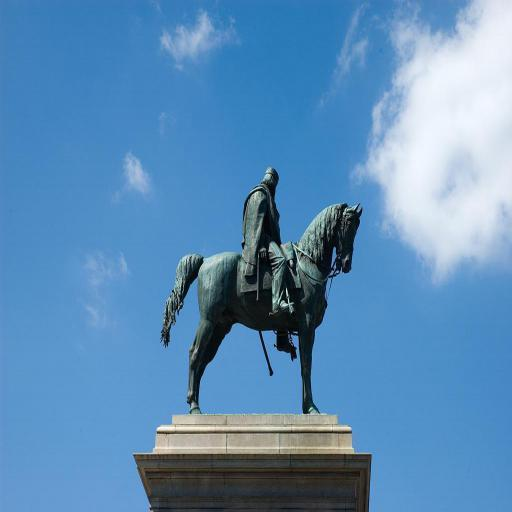horse: (160, 202, 362, 416)
